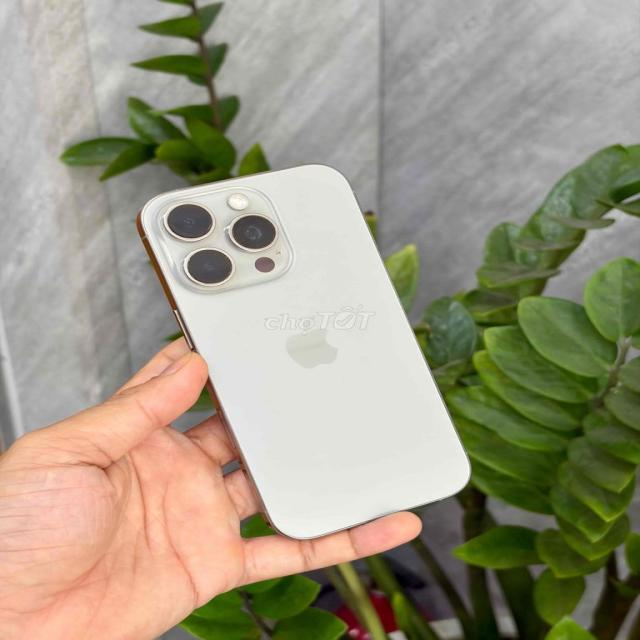gen_16: (122, 158, 480, 536)
